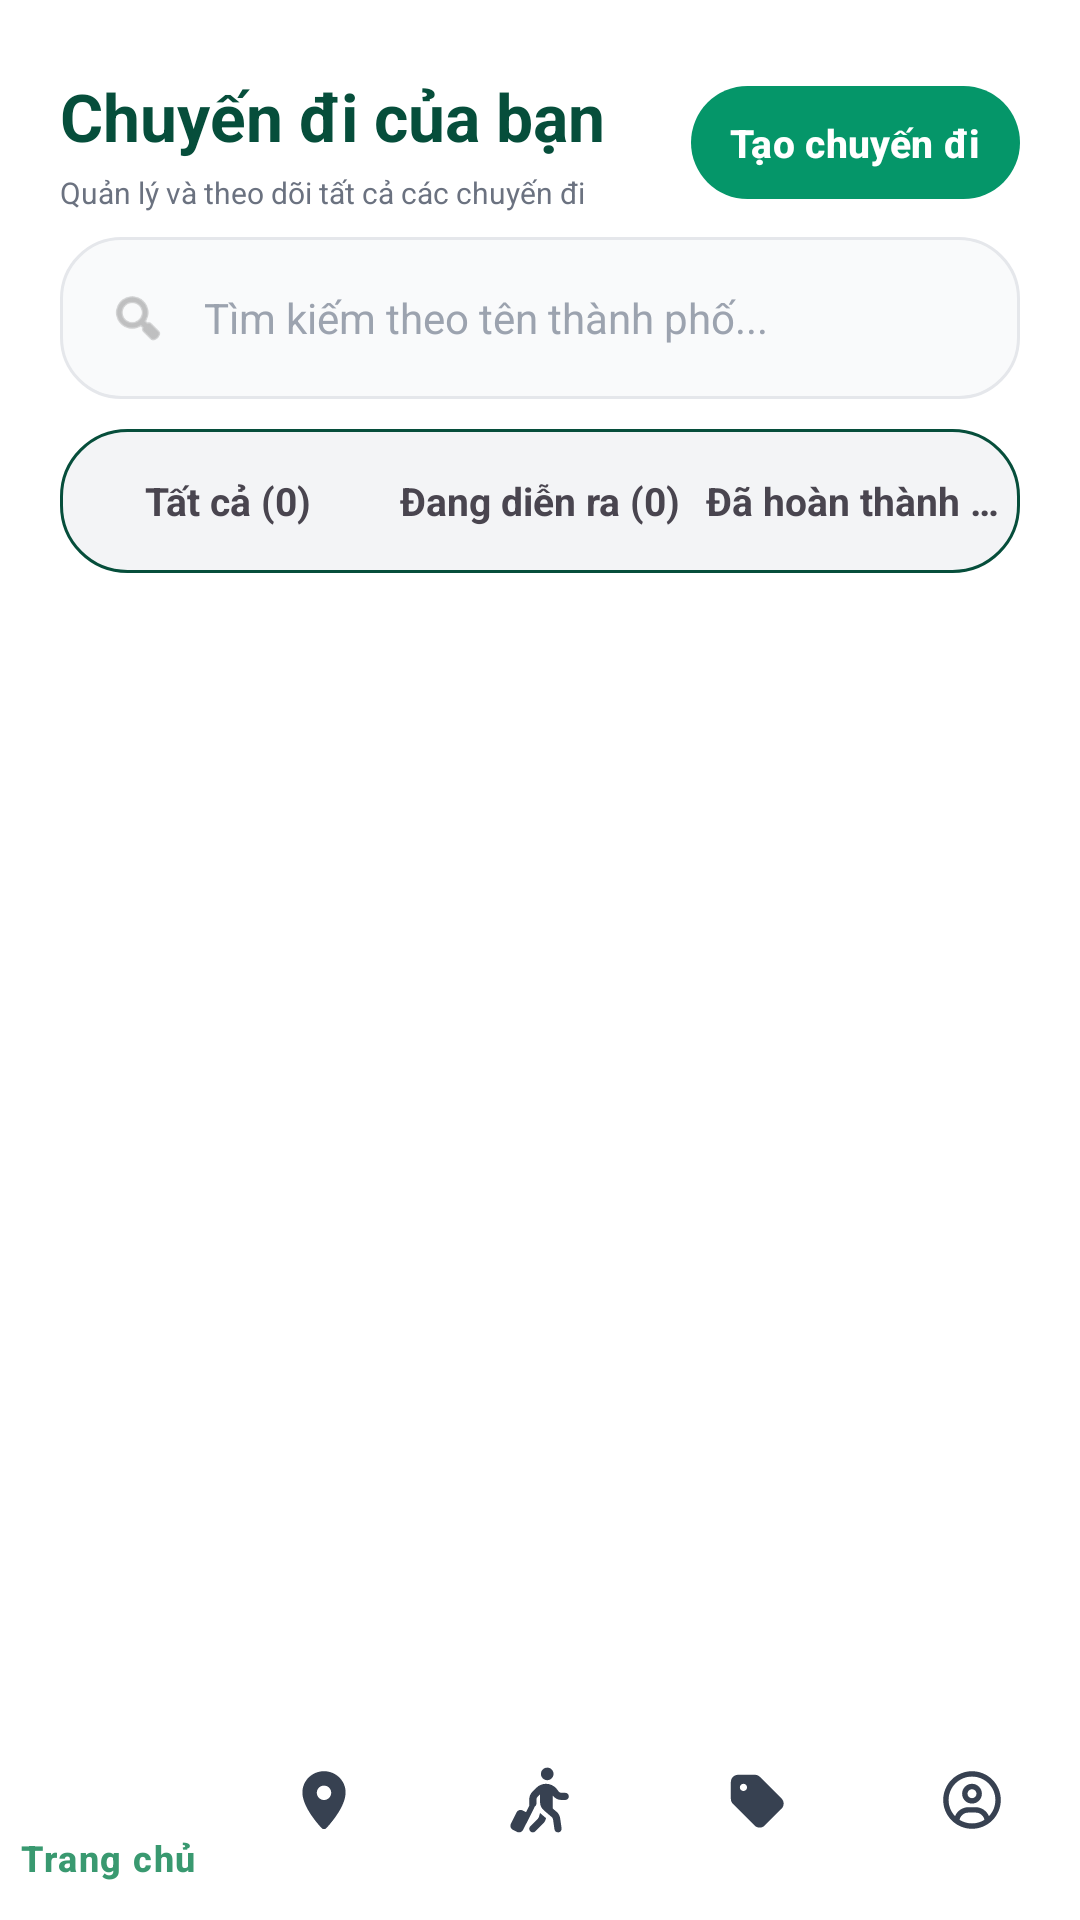

Icons on this 1080px×1920px Android screen, each with the point to tap as [x,y]:
search: [138,318]
